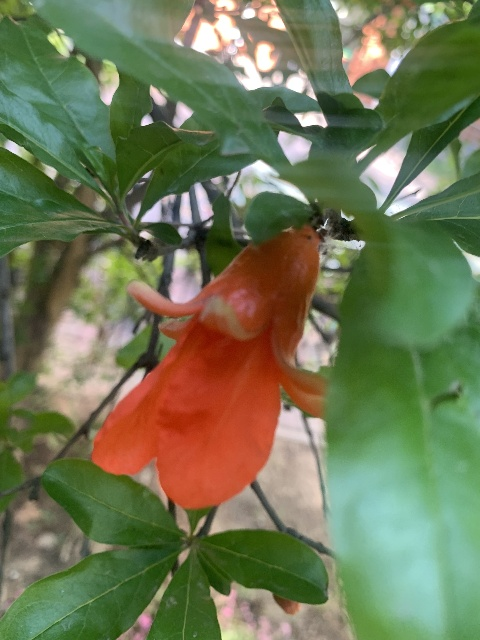flower: (93, 226, 327, 512)
